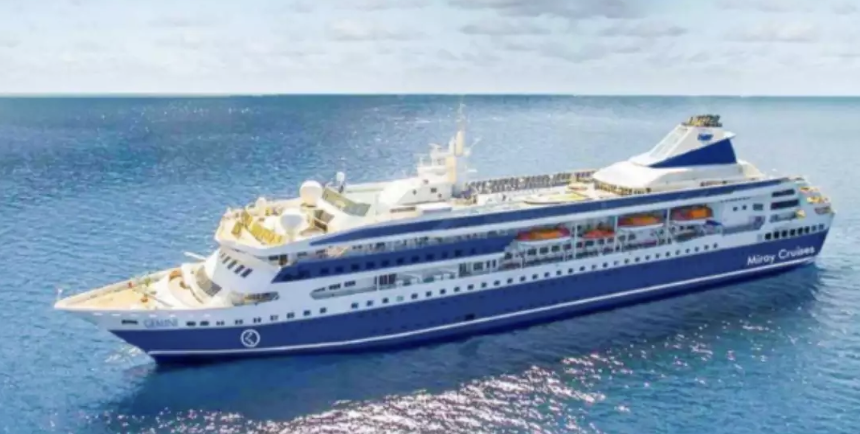ship: (36, 95, 837, 367)
